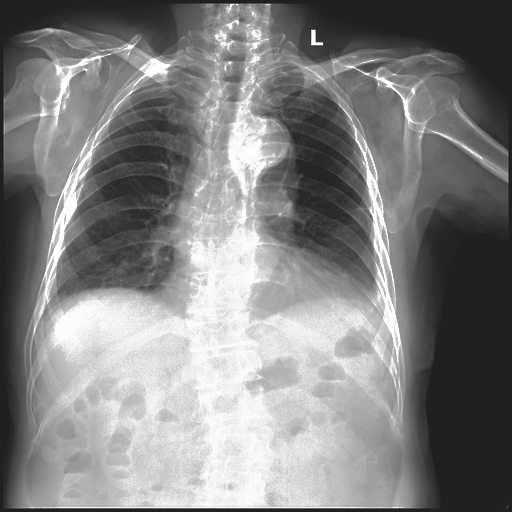Calcification: (301, 67, 340, 104), (126, 62, 187, 79)
Consolidation: (231, 113, 297, 181)
Nodule/Mass: (155, 269, 374, 315)
Pneumothorax: (352, 204, 371, 212)
